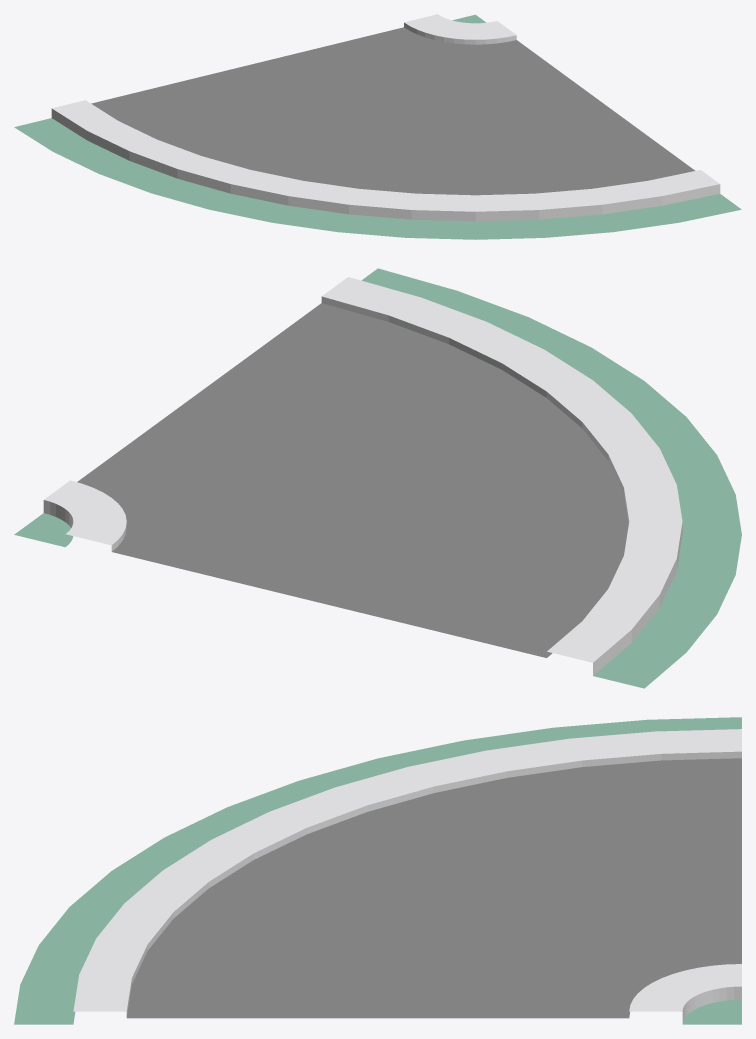
File: roadCornerSmall2.glb
3 renders of one model, top to bottom at view 1: azimuth 30°, elevation 25°; view 2: azimuth 150°, elevation 25°; view 3: azimuth 270°, elevation 25°, orthographic. The views are drawn at different scales.
Parts seen in each view (by area): view 1: roadCornerSmall; view 2: roadCornerSmall; view 3: roadCornerSmall.
Boxes of the visible parts, x1,y1,x2,y2 form: roadCornerSmall: (14, 14, 741, 239); roadCornerSmall: (14, 268, 741, 688); roadCornerSmall: (14, 717, 741, 1024).
Size of the model in its own units: 1 by 0.02 by 1.
